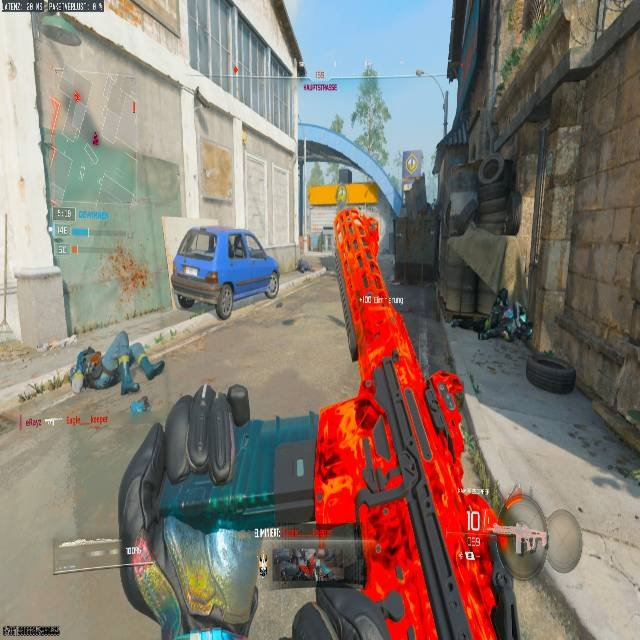head: (497, 288, 509, 304)
player: (450, 287, 532, 343)
